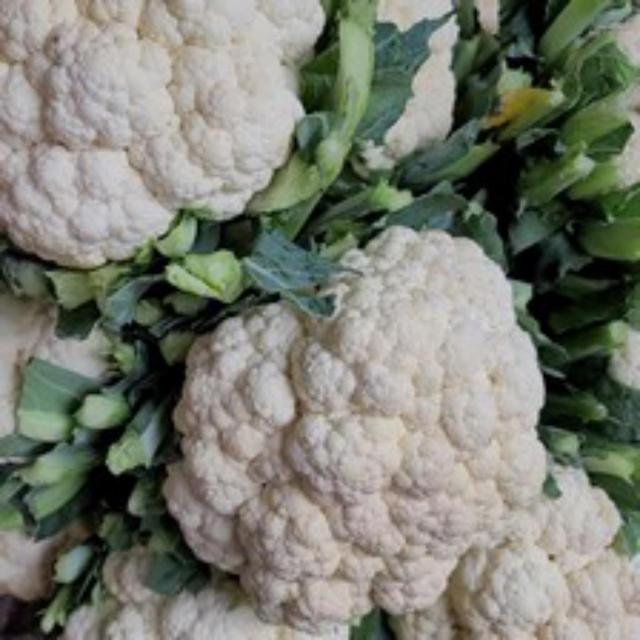cauliflower: (166, 198, 573, 621)
